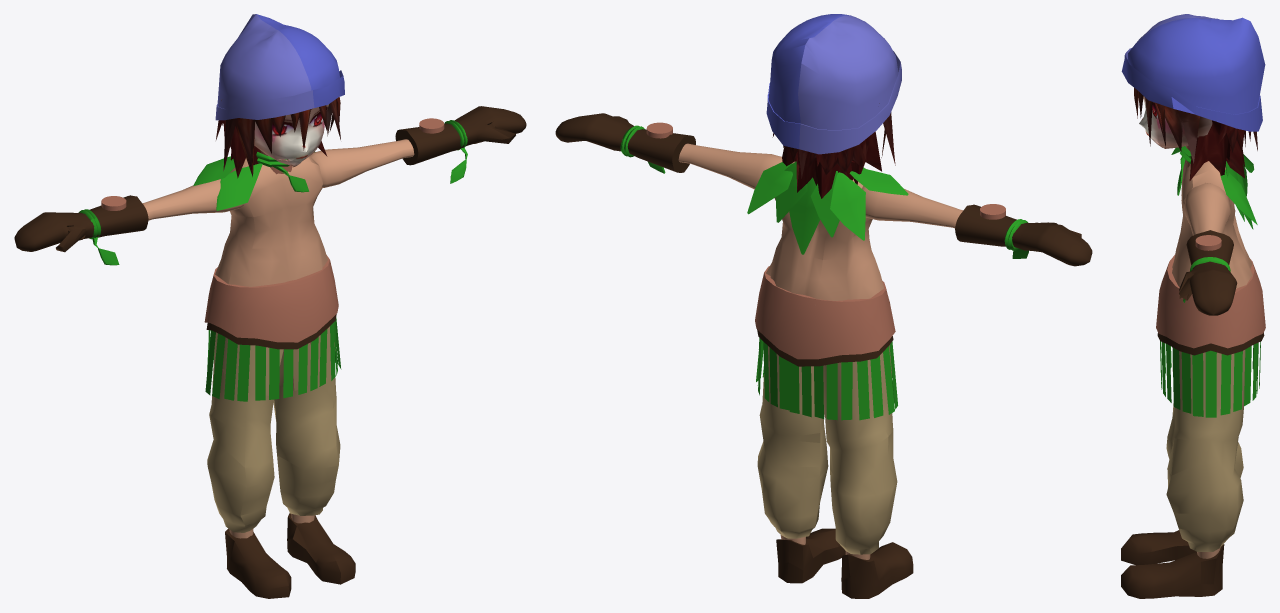
File: charactor3.fbx
3 views of the same model, side by side, from view 1: azimuth 30°, elevation 25°; view 2: azimuth 150°, elevation 25°; view 3: azimuth 270°, elevation 25° (orthographic). The views are drawn at different scales.
Parts seen in each view (by area): view 1: mqo_mesh; view 2: mqo_mesh; view 3: mqo_mesh.
Boxes of the visible parts, x1,y1,x2,y2 form: mqo_mesh: (14, 14, 526, 598); mqo_mesh: (555, 14, 1092, 598); mqo_mesh: (1121, 14, 1265, 598).
Size of the model in its own units: 374 by 377 by 88.87.
